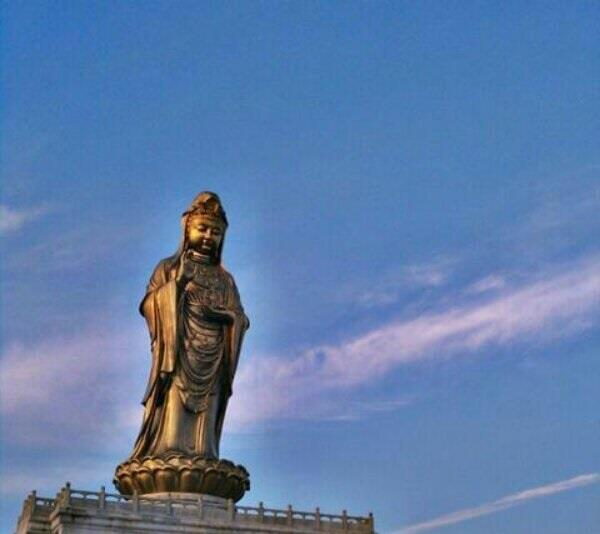Putuo_Mountain_Avalokitesvara: (112, 187, 256, 504)
